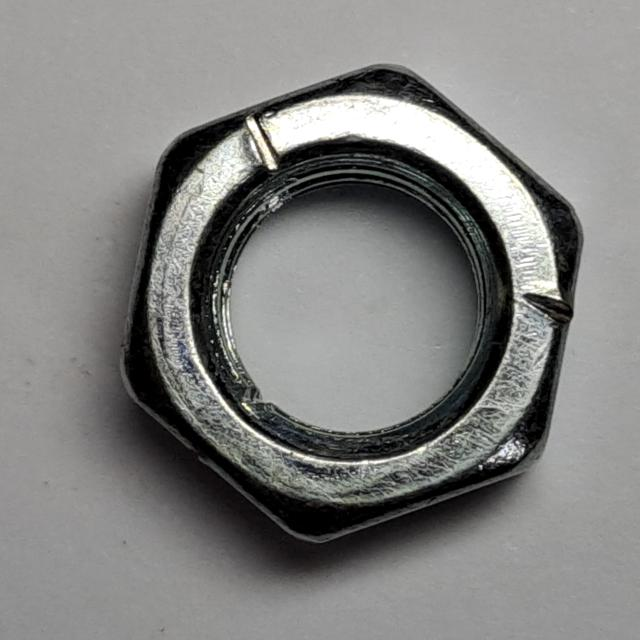Scratches: (106, 55, 592, 559)
